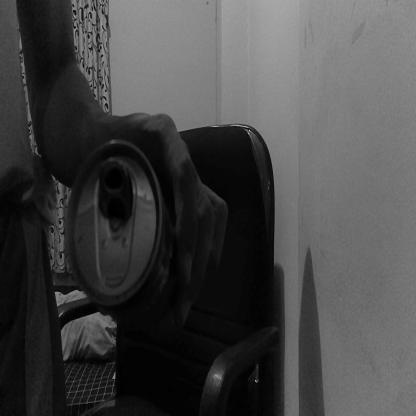alumunium_can: (66, 144, 175, 324)
